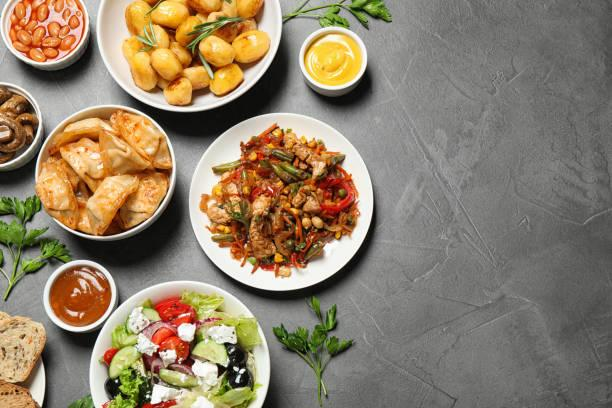Braised Crucian Carp: (189, 112, 372, 291), (89, 280, 270, 404), (95, 0, 280, 114), (34, 104, 174, 240), (0, 0, 89, 72)
